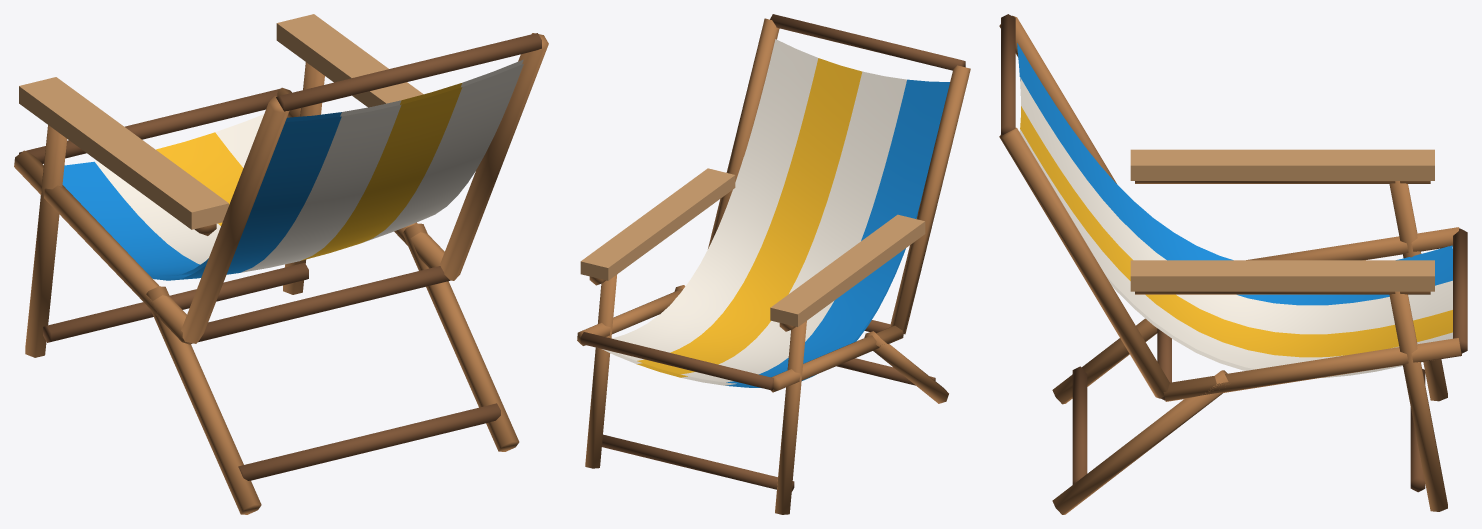
File: beach_chair.glb
3 renders of one model, left to right at view 1: azimuth 30°, elevation 25°; view 2: azimuth 150°, elevation 25°; view 3: azimuth 270°, elevation 25°, orthographic. The views are drawn at different scales.
Parts seen in each view (by area): view 1: beach_chair_mesh; view 2: beach_chair_mesh; view 3: beach_chair_mesh.
Part boxes in pixels (box(x1,y1,x2,y2)): beach_chair_mesh: box(14, 14, 548, 514); beach_chair_mesh: box(577, 14, 970, 514); beach_chair_mesh: box(999, 14, 1467, 514).
Size of the model in its own units: 0.71 by 1.02 by 1.11.
